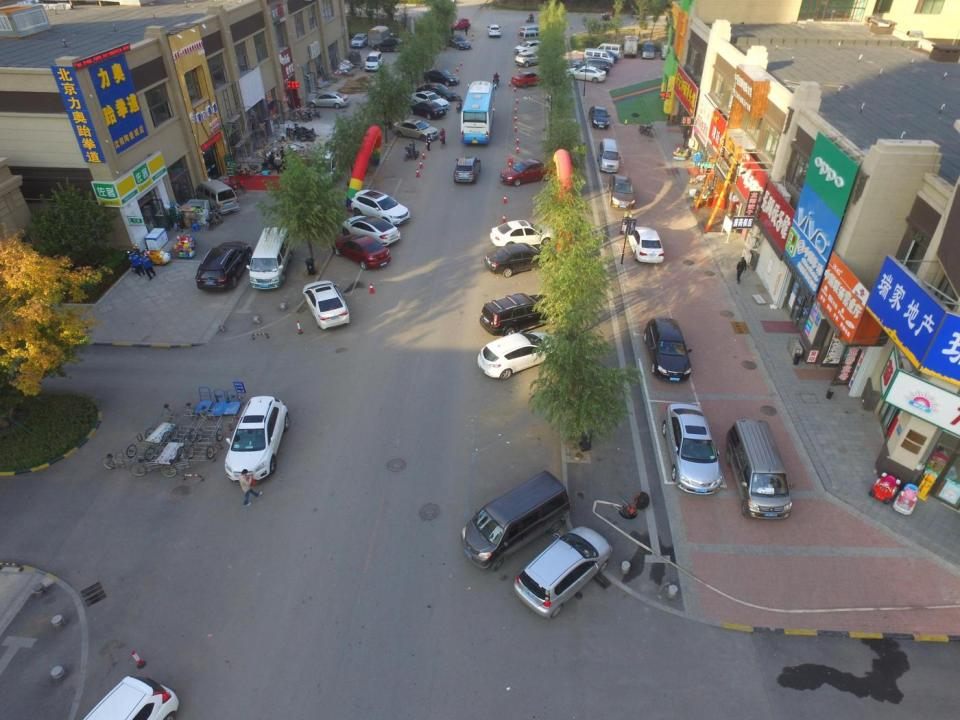bus: (460, 80, 497, 144)
car: (512, 524, 613, 619), (223, 395, 289, 483), (662, 402, 722, 496), (77, 674, 180, 720), (477, 332, 570, 380), (642, 318, 691, 384), (194, 241, 252, 292), (484, 243, 557, 277), (302, 279, 350, 330), (349, 188, 410, 227), (331, 233, 392, 270), (341, 215, 402, 248), (490, 220, 556, 248), (626, 226, 665, 264), (498, 158, 550, 186), (309, 150, 340, 188), (391, 118, 440, 141), (607, 173, 636, 210), (408, 90, 450, 112), (304, 90, 350, 108), (564, 65, 607, 84), (415, 82, 459, 100), (452, 156, 480, 184), (408, 100, 446, 119), (423, 68, 460, 86), (572, 58, 610, 73), (588, 105, 610, 130), (372, 36, 404, 53), (511, 72, 544, 88), (515, 51, 546, 67), (513, 40, 546, 55), (573, 56, 608, 69), (446, 34, 471, 50), (364, 51, 383, 71), (592, 49, 619, 63), (449, 18, 471, 31), (350, 33, 368, 47), (486, 24, 501, 36)
truck: (623, 34, 639, 56)
van: (460, 470, 572, 572), (725, 419, 795, 520), (477, 294, 558, 338), (245, 226, 294, 290), (194, 179, 241, 216), (596, 138, 622, 173), (584, 47, 614, 68), (595, 42, 623, 59), (518, 25, 544, 38), (518, 29, 540, 44), (660, 39, 674, 59), (642, 40, 655, 59)
